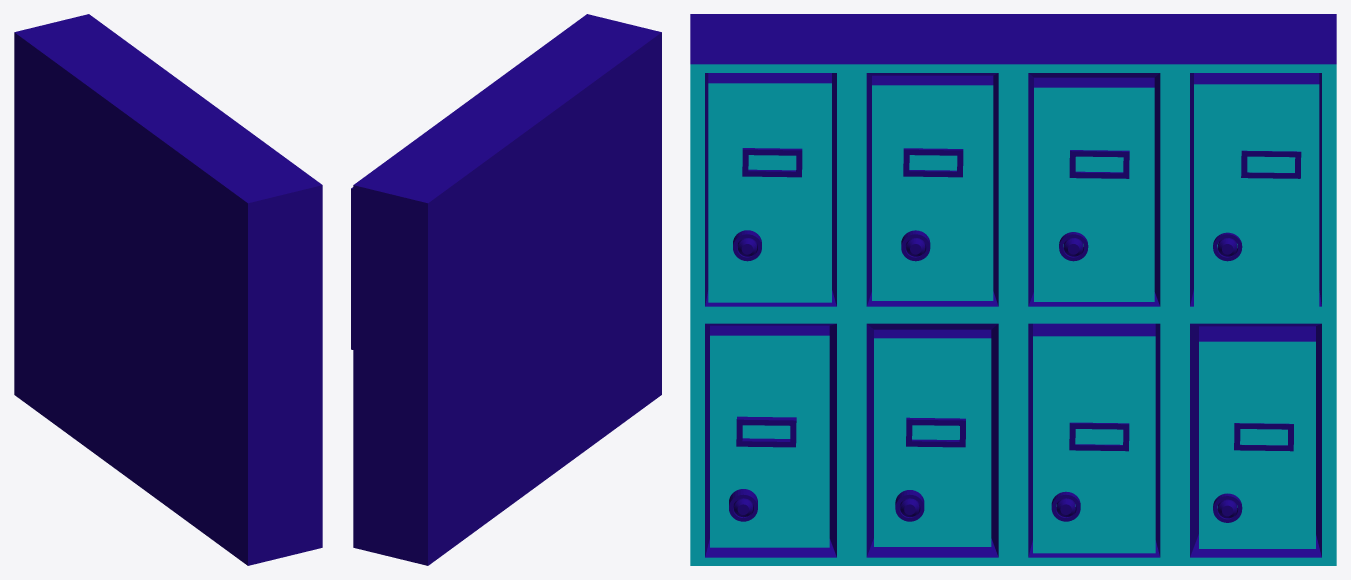
The model's file is Lockers.fbx.
The picture shows the model from 3 angles, left to right: view 1: azimuth 30°, elevation 25°; view 2: azimuth 150°, elevation 25°; view 3: azimuth 270°, elevation 25°; orthographic projection. The views are drawn at different scales.
Visible parts, largest first — view 1: Cube; view 2: Cube; view 3: Cube, Beam.005, Beam.007, Beam, Beam.001, Beam.003, Beam.008, Beam.004, Beam.009, Cylinder.007, Cylinder.006.
Boxes of the visible parts, x1,y1,x2,y2 form: Cube: (14,14,322,565); Cube: (351,14,661,565); Cube: (690,14,1336,565); Beam.005: (736,416,796,447); Beam.007: (906,417,965,447); Beam: (742,148,802,177); Beam.001: (903,148,963,177); Beam.003: (1069,150,1129,178); Beam.008: (1069,422,1129,451); Beam.004: (1241,150,1301,178); Beam.009: (1234,423,1293,451); Cylinder.007: (729,489,757,521); Cylinder.006: (895,490,924,521).
Size of the model in its own units: 238 by 927 by 1083.
